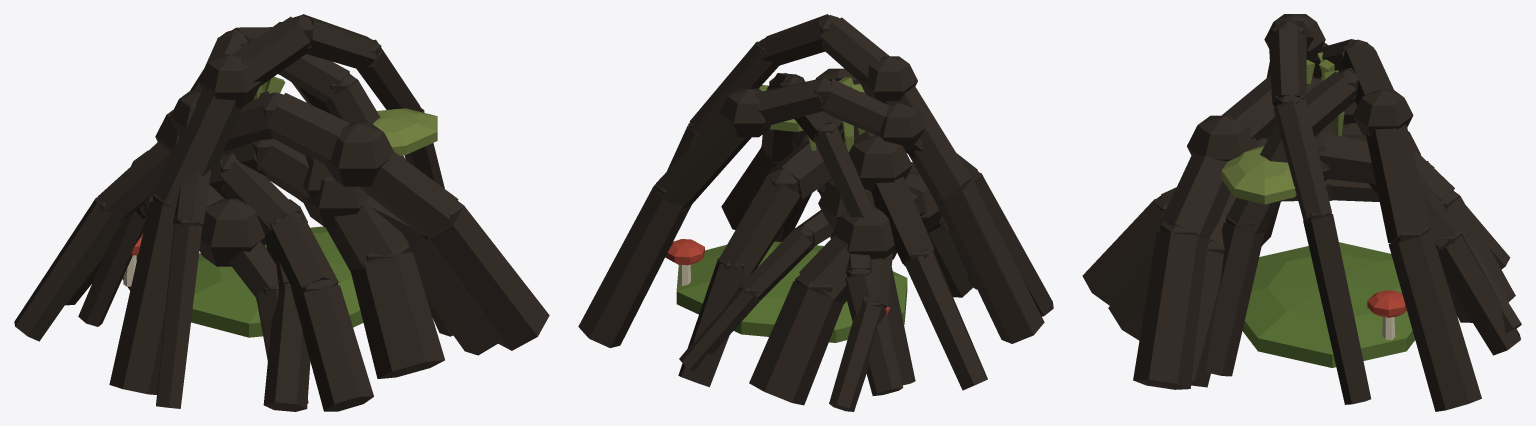
The model's file is root_tangle.glb.
The picture shows the model from 3 angles, left to right: view 1: azimuth 30°, elevation 25°; view 2: azimuth 150°, elevation 25°; view 3: azimuth 270°, elevation 25°; orthographic projection. The views are drawn at different scales.
Parts seen in each view (by area): view 1: RootTangle; view 2: RootTangle; view 3: RootTangle.
Part boxes in pixels (x1,y1,x2,y2): RootTangle: [14, 14, 549, 411]; RootTangle: [578, 14, 1053, 411]; RootTangle: [1082, 14, 1521, 411].
Bounding box in the file's own units: 0.8234 × 0.6317 × 0.7788.
